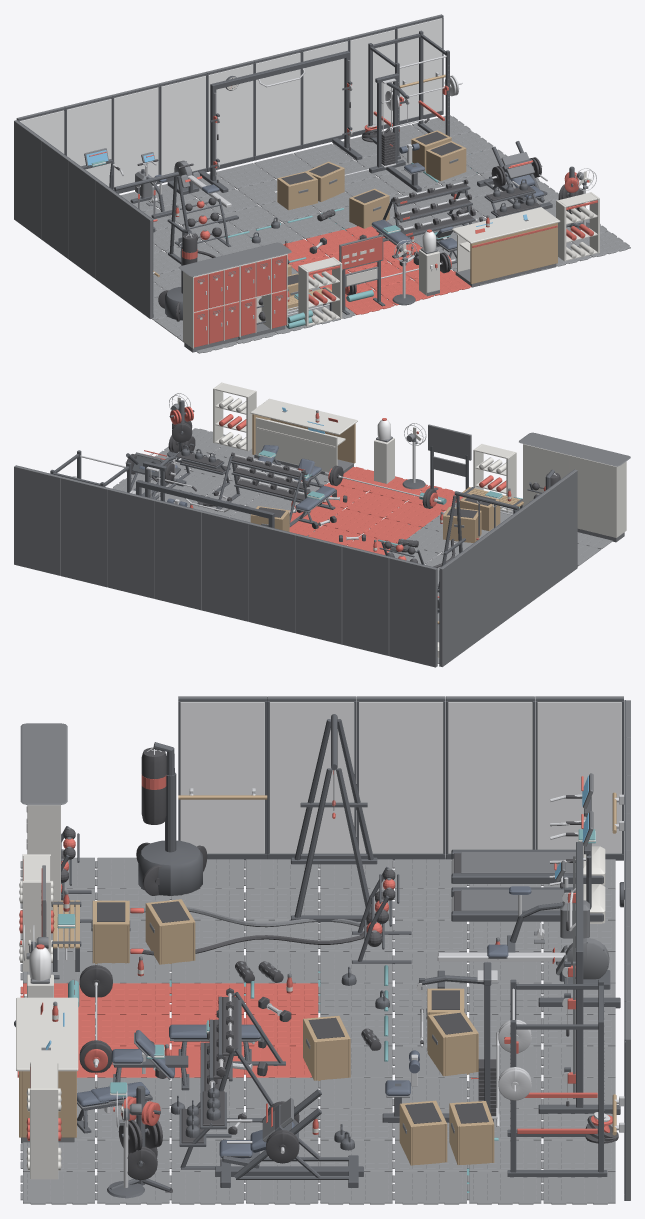
The model's file is gym-and-fitness-studio-commercial-gym-fl-4268a6ed-starter-scene__33602.glb.
3 renders of one model, top to bottom at view 1: azimuth 30°, elevation 25°; view 2: azimuth 150°, elevation 25°; view 3: azimuth 270°, elevation 25°, orthographic. The views are drawn at different scales.
Visible parts, largest first — view 1: 091-mirror-wall-panel/1, 093-mirror-wall-panel/1, 090-mirror-wall-panel/1, 094-mirror-wall-panel/1, 092-mirror-wall-panel/1, 170-reception-desk/0, 096-mirror-wall-panel-with-barre/1, 095-mirror-wall-panel/1, 101-mirror-wall-panel-with-barre/0, 098-mirror-wall-panel/0, 097-mirror-wall-panel/0, 099-mirror-wall-panel/0 (+77 smaller); view 2: 088-mirror-wall-panel-with-barre/0, 092-mirror-wall-panel/0, 089-mirror-wall-panel/0, 090-mirror-wall-panel/0, 093-mirror-wall-panel/0, 094-mirror-wall-panel/0, 091-mirror-wall-panel/0, 095-mirror-wall-panel/0, 096-mirror-wall-panel-with-barre/0, 170-reception-desk/2, 165-locker-bank/0, 097-mirror-wall-panel/0 (+41 smaller); view 3: 099-mirror-wall-panel/1, 098-mirror-wall-panel/1, 101-mirror-wall-panel-with-barre/1, 097-mirror-wall-panel/1, 100-mirror-wall-panel/1, 130-suspension-trainer-frame/0, 170-reception-desk/2, 110-power-rack/0, 112-leg-press-machine/0, 128-punching-bag-on-stand/0, 171-towel-shelf/0, 109-cable-crossover-frame/0 (+118 smaller).
Boxes of the visible parts, box(x1,y1,x2,y2) form: 091-mirror-wall-panel/1: box(161, 76, 205, 175); 093-mirror-wall-panel/1: box(256, 53, 300, 155); 090-mirror-wall-panel/1: box(114, 87, 158, 187); 094-mirror-wall-panel/1: box(303, 41, 347, 144); 092-mirror-wall-panel/1: box(208, 64, 253, 167); 170-reception-desk/0: box(470, 222, 557, 284); 096-mirror-wall-panel-with-barre/1: box(397, 18, 442, 120); 095-mirror-wall-panel/1: box(350, 29, 394, 132); 101-mirror-wall-panel-with-barre/0: box(123, 200, 152, 318); 098-mirror-wall-panel/0: box(41, 140, 70, 258); 097-mirror-wall-panel/0: box(14, 120, 43, 238); 099-mirror-wall-panel/0: box(68, 160, 97, 278); 088-mirror-wall-panel-with-barre/0: box(389, 557, 437, 667); 092-mirror-wall-panel/0: box(201, 511, 249, 621); 089-mirror-wall-panel/0: box(342, 546, 390, 655); 090-mirror-wall-panel/0: box(295, 534, 342, 644); 093-mirror-wall-panel/0: box(154, 500, 202, 610); 094-mirror-wall-panel/0: box(107, 488, 155, 598); 091-mirror-wall-panel/0: box(248, 523, 296, 632); 095-mirror-wall-panel/0: box(61, 477, 108, 587); 096-mirror-wall-panel-with-barre/0: box(14, 465, 61, 575); 170-reception-desk/2: box(250, 398, 357, 472); 165-locker-bank/0: box(569, 455, 626, 537); 097-mirror-wall-panel/0: box(440, 549, 469, 666); 099-mirror-wall-panel/1: box(359, 702, 443, 853); 098-mirror-wall-panel/1: box(448, 702, 532, 853); 101-mirror-wall-panel-with-barre/1: box(180, 702, 264, 853); 097-mirror-wall-panel/1: box(537, 702, 621, 853); 100-mirror-wall-panel/1: box(269, 702, 354, 853); 130-suspension-trainer-frame/0: box(291, 714, 377, 923); 170-reception-desk/2: box(16, 997, 78, 1071); 110-power-rack/0: box(507, 979, 607, 1177); 112-leg-press-machine/0: box(215, 1089, 363, 1187); 128-punching-bag-on-stand/0: box(138, 742, 202, 895); 171-towel-shelf/0: box(26, 1061, 61, 1179); 109-cable-crossover-frame/0: box(538, 842, 620, 1114).
Bounding box in the file's own units: 11.21 × 2.42 × 8.3.
